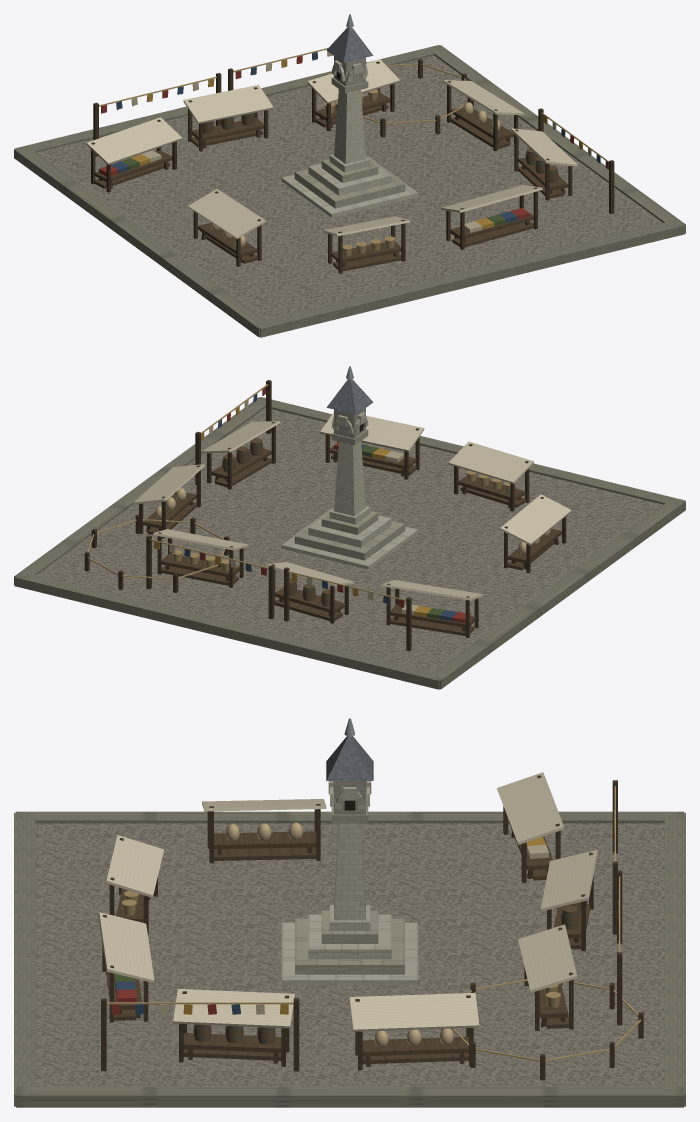
Rendered from civic-medieval-market-square-built.glb.
3 views of the same model, one above another, from view 1: azimuth 30°, elevation 25°; view 2: azimuth 150°, elevation 25°; view 3: azimuth 270°, elevation 25° (orthographic). The views are drawn at different scales.
Bounding box in the file's own units: 31.4 × 12.74 × 31.4.
36 materials, 32 textured.
